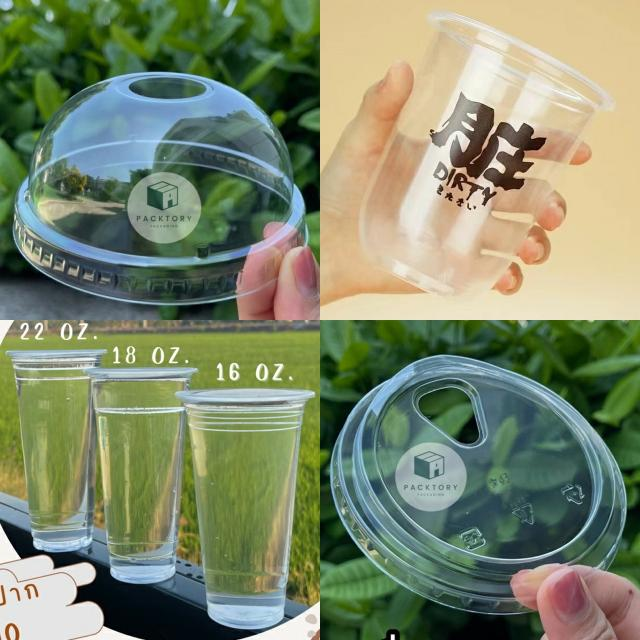Single-Use-Plastic: (331, 355, 625, 614), (360, 11, 612, 295), (14, 72, 305, 303), (176, 389, 315, 628), (84, 366, 198, 583), (6, 350, 106, 552)
